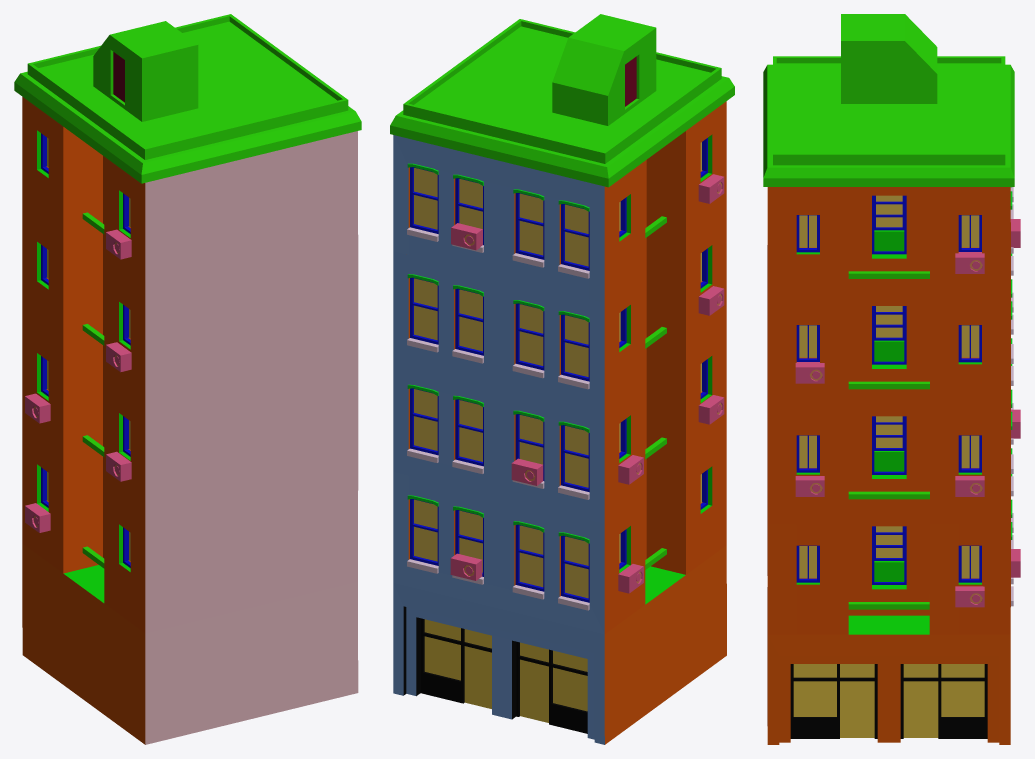
File: Building10.fbx
3 views of the same model, side by side, from view 1: azimuth 30°, elevation 25°; view 2: azimuth 150°, elevation 25°; view 3: azimuth 270°, elevation 25° (orthographic).
Visible parts, largest first — view 1: Building 10; view 2: Building 10; view 3: Building 10.
Part boxes in pixels (left/top/right/bottom): Building 10: left=14, top=14, right=361, bottom=744; Building 10: left=390, top=14, right=734, bottom=744; Building 10: left=763, top=14, right=1020, bottom=744.
Size of the model in its own units: 876 by 2339 by 847.
